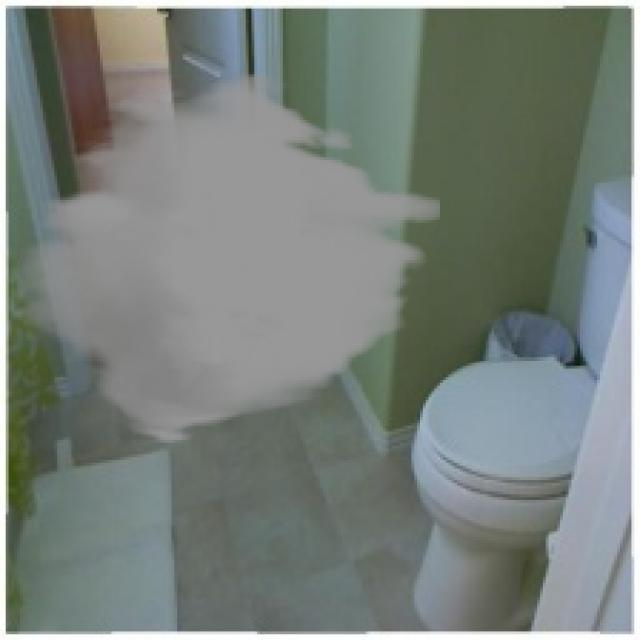Smoke: (17, 71, 440, 446)
